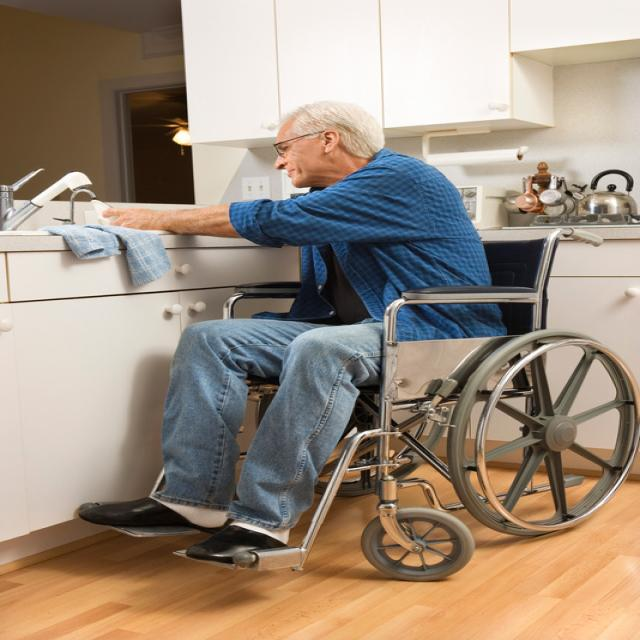wheelchairs: (74, 223, 640, 582)
